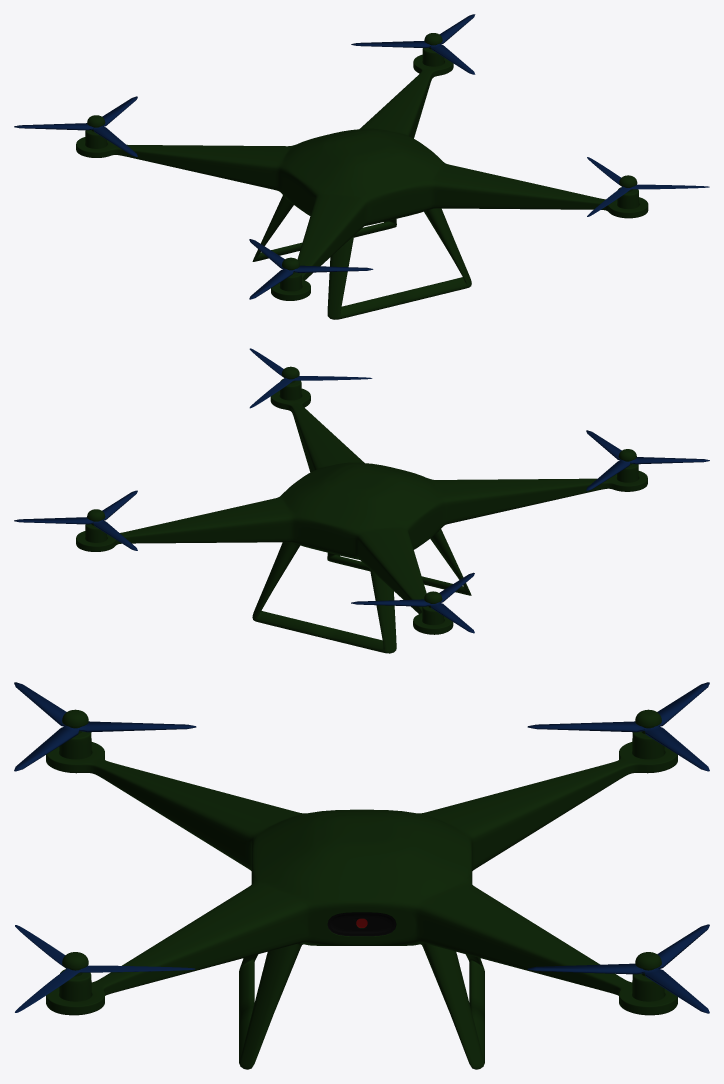
The model's file is drone.gltf.
3 renders of one model, top to bottom at view 1: azimuth 30°, elevation 25°; view 2: azimuth 150°, elevation 25°; view 3: azimuth 270°, elevation 25°, orthographic. The views are drawn at different scales.
Parts seen in each view (by area): view 1: Cube, Circle.002, Circle.003, Circle, Circle.004; view 2: Cube, Circle, Circle.002, Circle.003, Circle.004; view 3: Cube, Circle.002, Circle.003, Circle, Circle.004.
Part boxes in pixels (x1,y1,x2,y2): Cube: [76, 33, 648, 319]; Circle.002: [14, 96, 137, 156]; Circle.003: [249, 239, 373, 299]; Circle: [351, 14, 475, 74]; Circle.004: [587, 157, 709, 216]; Cube: [76, 366, 647, 653]; Circle: [14, 490, 137, 550]; Circle.002: [351, 572, 474, 633]; Circle.003: [586, 430, 709, 490]; Circle.004: [249, 348, 372, 408]; Cube: [46, 709, 677, 1069]; Circle.002: [527, 682, 709, 771]; Circle.003: [14, 682, 196, 771]; Circle: [527, 924, 709, 1013]; Circle.004: [15, 925, 195, 1012].
Size of the model in its own units: 7.11 by 1.91 by 6.31.
